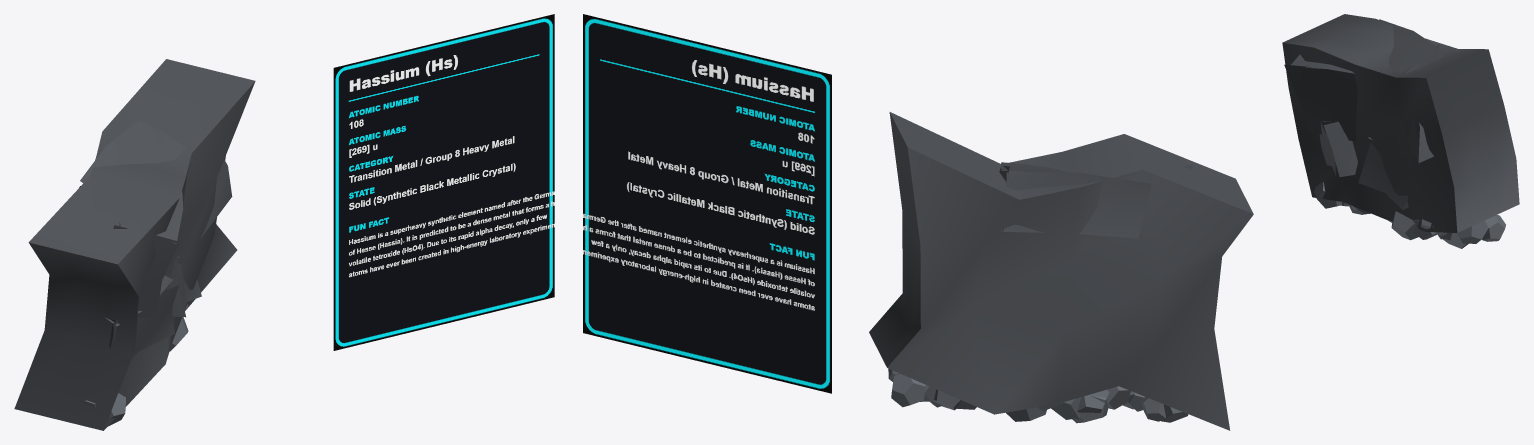
The model's file is hassium.glb.
The picture shows the model from 3 angles, left to right: view 1: azimuth 30°, elevation 25°; view 2: azimuth 150°, elevation 25°; view 3: azimuth 270°, elevation 25°; orthographic projection. The views are drawn at different scales.
Visible parts, largest first — view 1: Mesh_35, Mesh_0, Mesh_5, Mesh_1, Mesh_3, Mesh_4, Mesh_2; view 2: Mesh_0, Mesh_35, Mesh_5, Mesh_33; view 3: Mesh_0, Mesh_1, Mesh_5, Mesh_3, Mesh_4, Mesh_2, Mesh_23, Mesh_33, Mesh_32, Mesh_7, Mesh_30.
Part boxes in pixels (<box>): Mesh_35: <box>333,14,554,350</box>; Mesh_0: <box>14,59,255,430</box>; Mesh_5: <box>79,120,185,187</box>; Mesh_1: <box>113,191,183,319</box>; Mesh_3: <box>105,275,178,358</box>; Mesh_4: <box>169,256,201,317</box>; Mesh_2: <box>200,160,232,238</box>; Mesh_0: <box>869,112,1253,430</box>; Mesh_35: <box>583,14,831,393</box>; Mesh_5: <box>999,162,1151,240</box>; Mesh_33: <box>891,373,925,407</box>; Mesh_0: <box>1282,14,1519,232</box>; Mesh_1: <box>1284,54,1357,141</box>; Mesh_5: <box>1379,19,1442,73</box>; Mesh_3: <box>1319,120,1357,176</box>; Mesh_4: <box>1358,137,1408,210</box>; Mesh_2: <box>1396,117,1433,163</box>; Mesh_23: <box>1391,211,1418,240</box>; Mesh_33: <box>1482,215,1505,241</box>; Mesh_32: <box>1457,220,1488,243</box>; Mesh_7: <box>1314,181,1341,208</box>; Mesh_30: <box>1441,232,1468,248</box>.
Size of the model in its own units: 2.89 by 1.4 by 1.25.
Materials: 3 (1 with a texture image).
